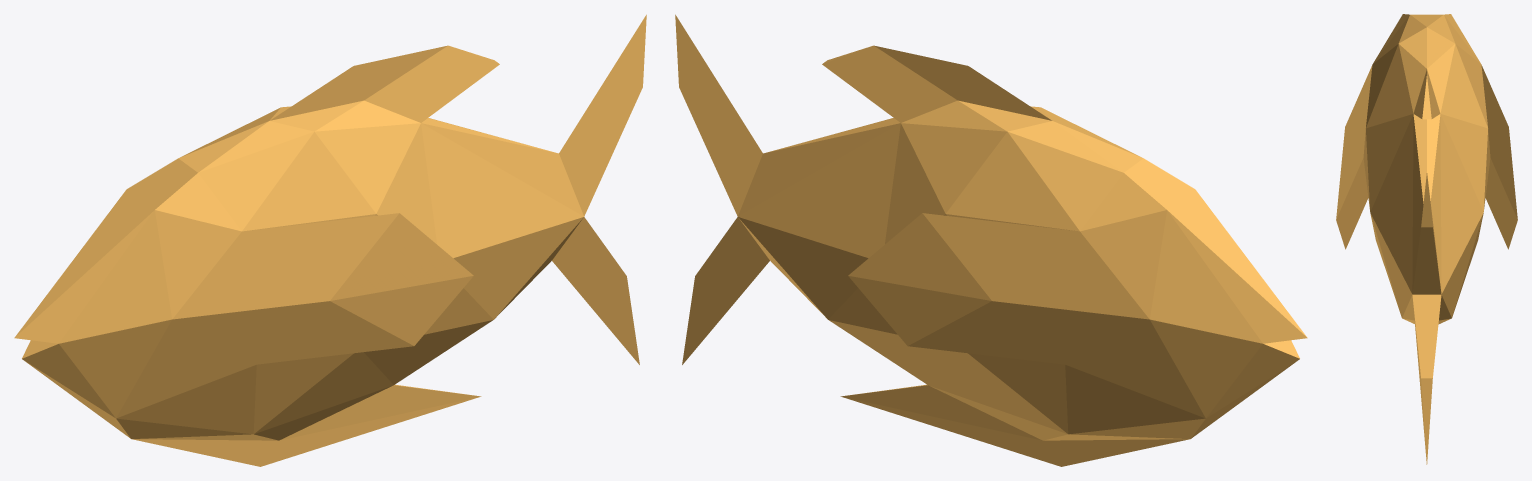
Rendered from PezDorado.fbx.
3 renders of one model, left to right at view 1: azimuth 30°, elevation 25°; view 2: azimuth 150°, elevation 25°; view 3: azimuth 270°, elevation 25°, orthographic. The views are drawn at different scales.
Parts seen in each view (by area): view 1: Icosphere; view 2: Icosphere; view 3: Icosphere.
Boxes of the visible parts, x1,y1,x2,y2 form: Icosphere: (14, 14, 646, 466); Icosphere: (675, 14, 1307, 466); Icosphere: (1336, 14, 1517, 464).
Bounding box in the file's own units: 205 × 117 × 59.84.
